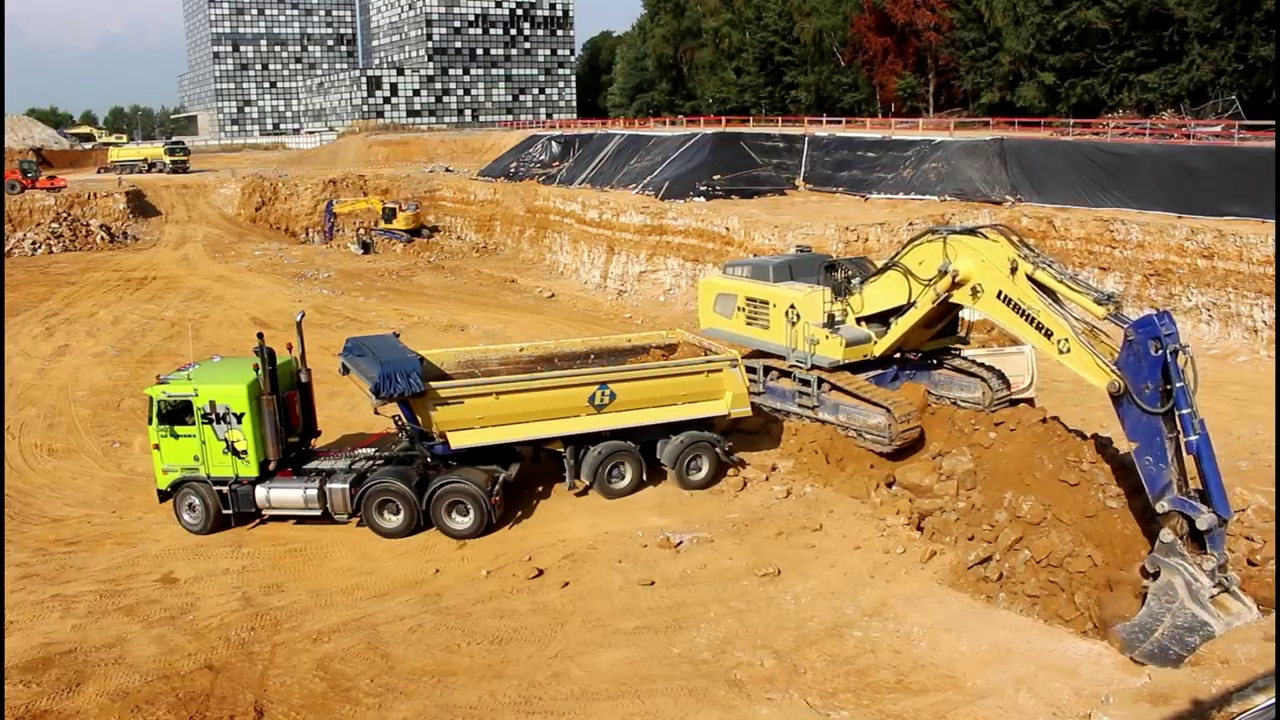compactor: (5, 157, 71, 199)
excavator: (687, 217, 1264, 678), (319, 193, 443, 254), (60, 121, 135, 155)
truck: (135, 306, 761, 550), (876, 244, 1043, 436), (106, 141, 195, 178)
